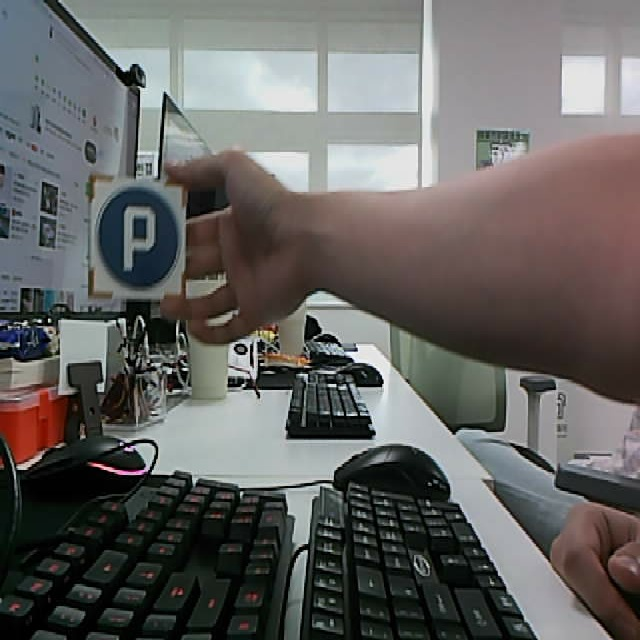parking: (87, 176, 188, 300)
